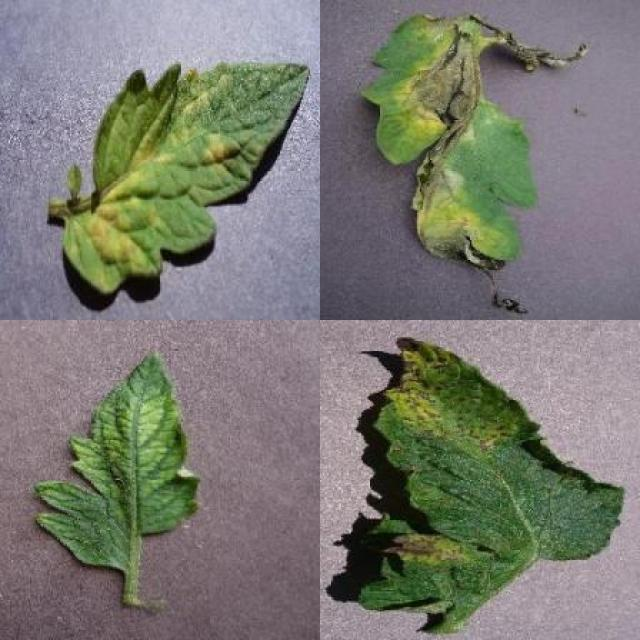Late Blight: (358, 10, 585, 320)
Leaf Mold: (62, 60, 311, 294)
Mosaic Virus: (32, 346, 202, 574)
Septoria: (363, 336, 626, 614)
